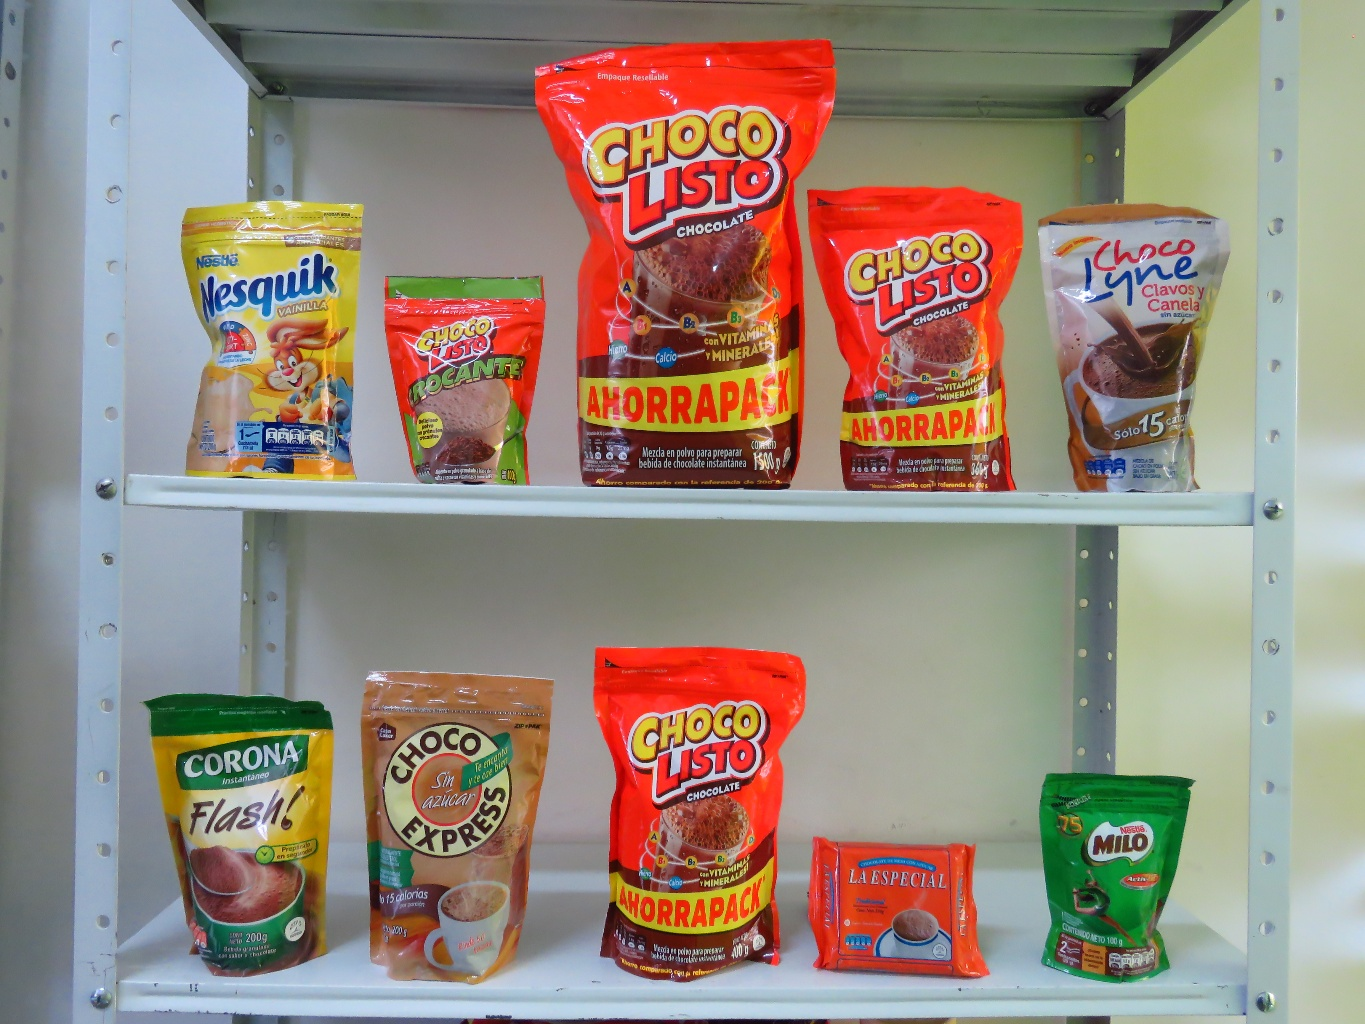COL0170102DYP10000: (385, 272, 546, 485)
COL0170103DYP1,500: (534, 37, 838, 488)
COL0170103DYP36000: (808, 185, 1027, 490)
COL0170103DYP40000: (592, 648, 808, 983)
COL0170203DYP10000: (1038, 776, 1196, 982)
COL0170306DYP20000: (185, 207, 359, 481)
